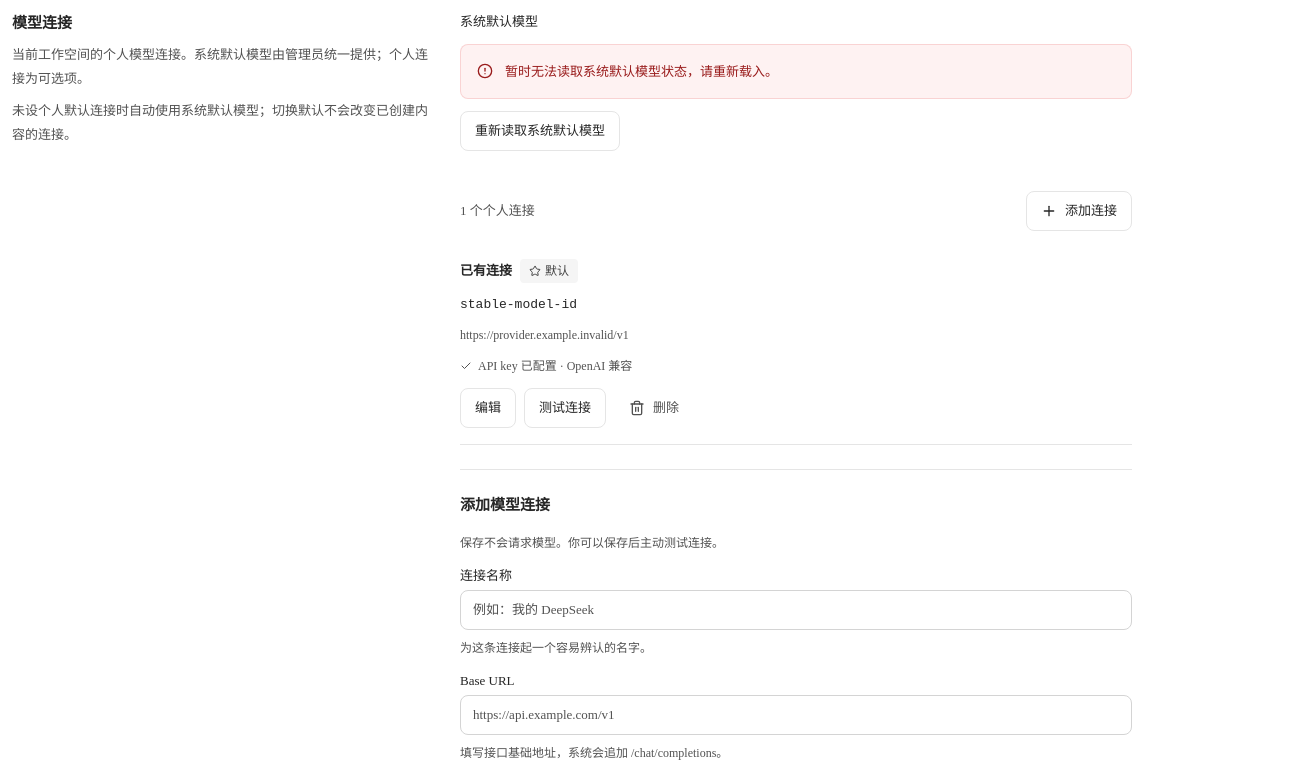
Test: shadcn account and agent form behavior › retries a failed system catalog read without hiding existing personal connections
Check: the text "已有连接" is shown, box [460, 260, 512, 281]
Click the button "重新读取系统默认模型".
click(540, 131)  # box [460, 111, 620, 151]
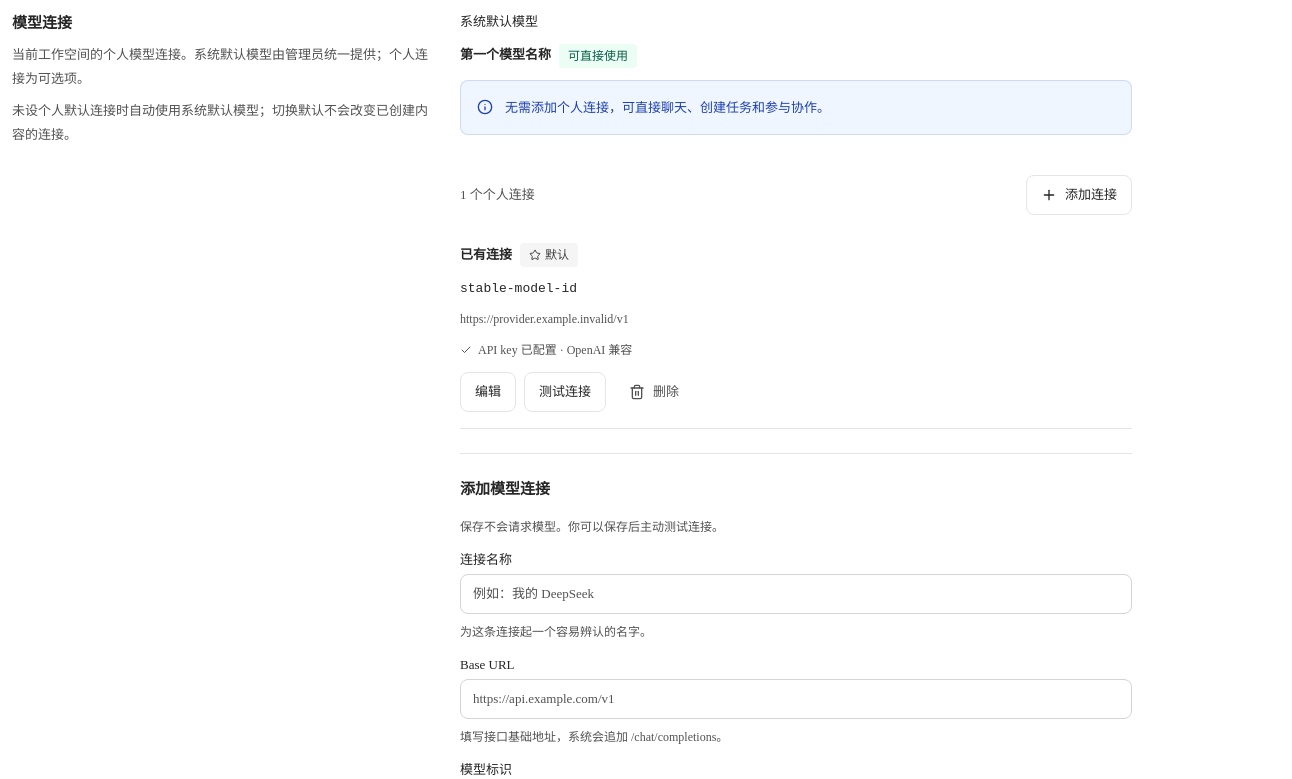
Check: the text "可直接使用" is shown, box [559, 44, 637, 68]
